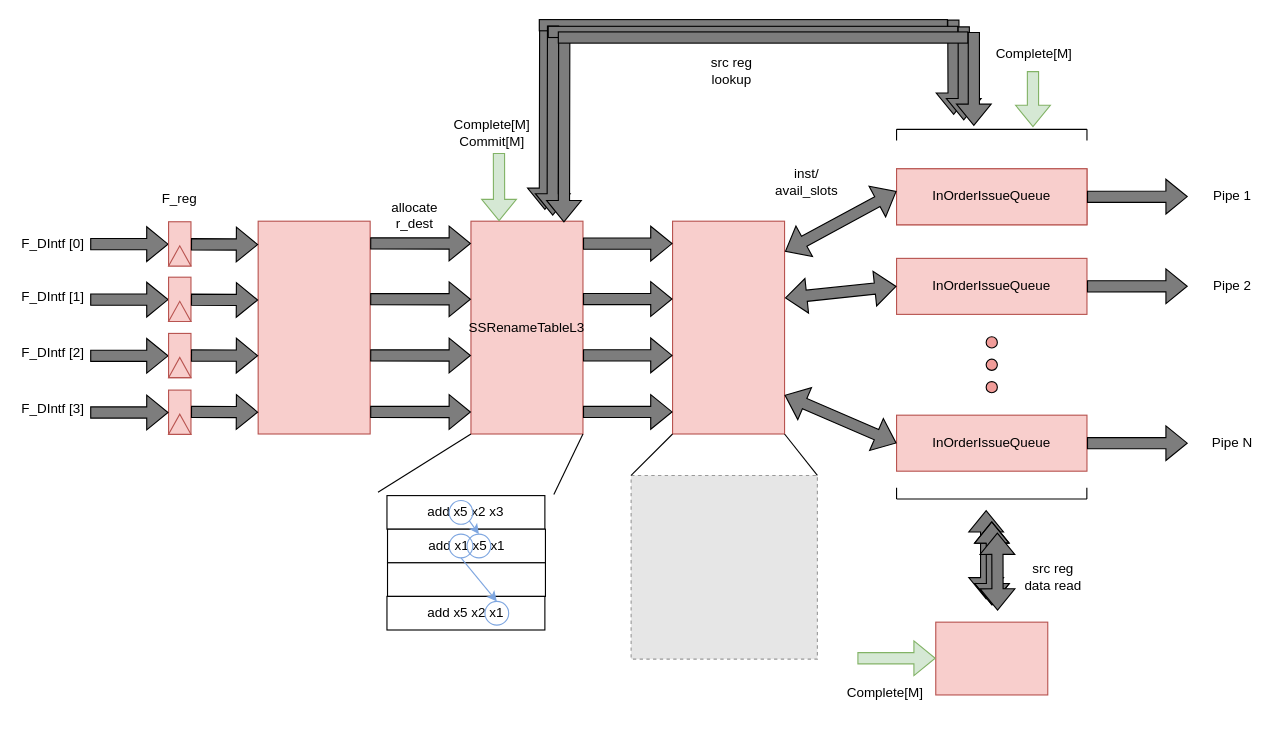
Image size: 1285x729. Some labels were removed from this diagram. Grey dashed boxes stand in for pictures. Here are the shapes that lost their labels. From the top down, the centre of each, then its label:
At (x=313, y=327): "InstDecoder".
At (x=728, y=327): "InstXbar IQ".
At (x=465, y=579): "add x6 x2 x3".
At (x=991, y=658): "M2RegFile".
